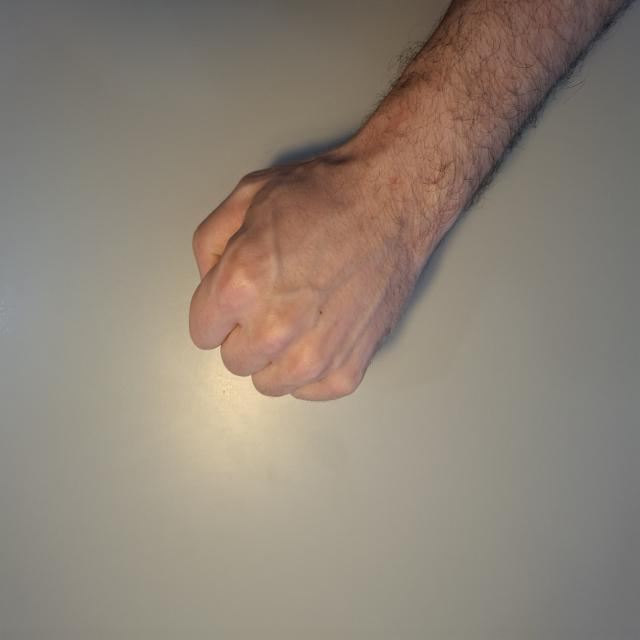glove_off: (188, 134, 428, 404)
